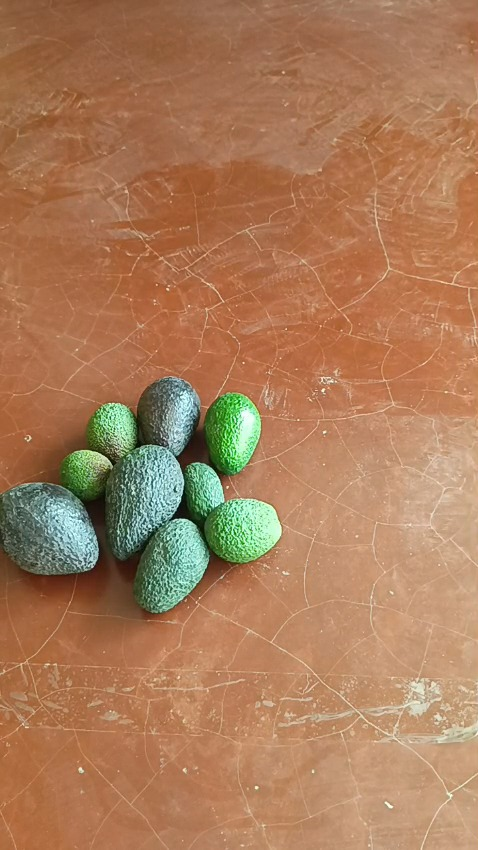Primera: (102, 443, 185, 559), (0, 482, 100, 574), (135, 375, 201, 456)
Segunda: (132, 518, 210, 612), (204, 498, 282, 563), (203, 392, 261, 474), (85, 402, 138, 465)
Tercera: (182, 461, 224, 530), (59, 449, 114, 501)
